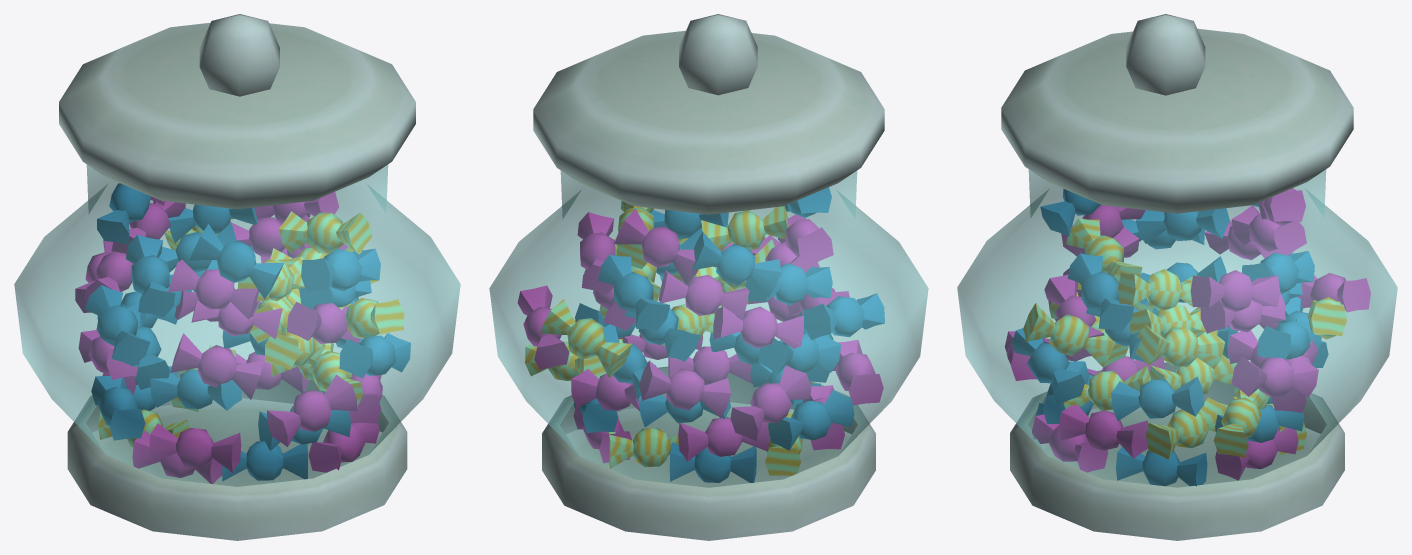
The model's file is Sweet_Jar5.fbx.
3 views of the same model, side by side, from view 1: azimuth 30°, elevation 25°; view 2: azimuth 150°, elevation 25°; view 3: azimuth 270°, elevation 25° (orthographic).
Visible parts, largest first — view 1: jar4_low2; view 2: jar4_low2; view 3: jar4_low2.
Part boxes in pixels (box(x1,y1,x2,y2)): jar4_low2: box(14, 14, 460, 540); jar4_low2: box(489, 14, 928, 540); jar4_low2: box(957, 14, 1397, 540).
Bounding box in the file's own units: 34.06 × 38.63 × 34.06.
